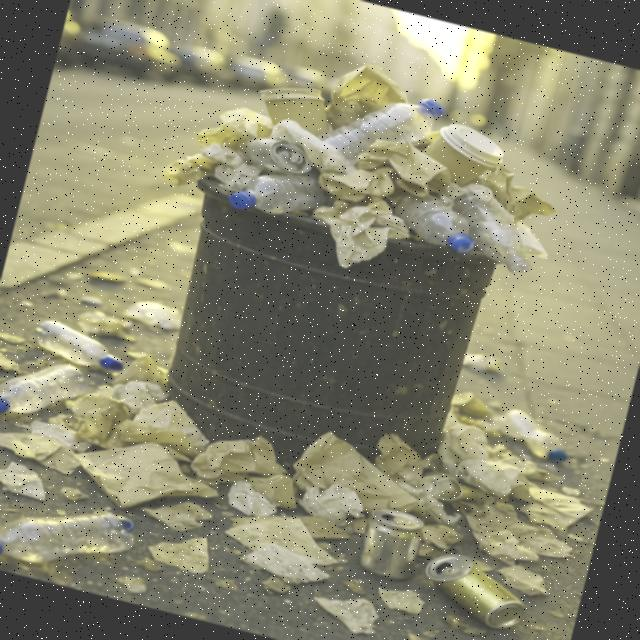aluminum: (420, 549, 538, 634), (355, 504, 427, 584)
paper: (186, 428, 305, 512), (411, 114, 509, 200), (244, 74, 338, 156), (446, 446, 526, 502), (294, 478, 364, 532)
plastic: (0, 477, 147, 595), (319, 72, 444, 182), (0, 344, 86, 431), (30, 314, 132, 377), (229, 162, 323, 224), (394, 192, 480, 255), (490, 406, 577, 467)
